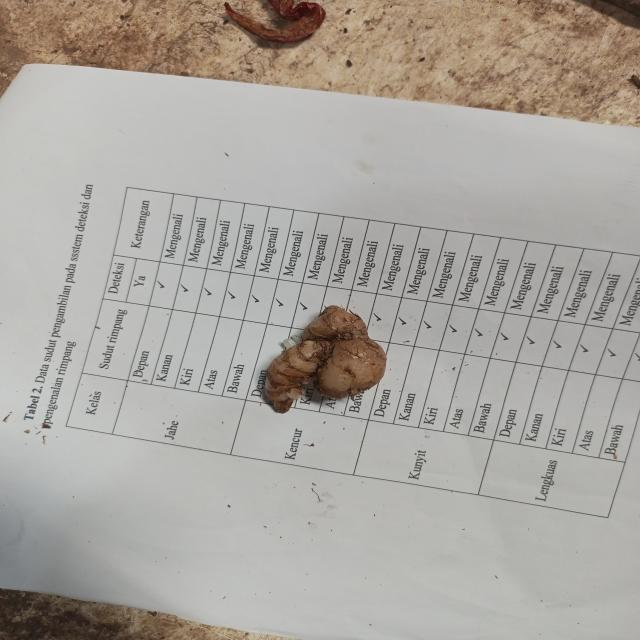ginger: (256, 304, 382, 399)
